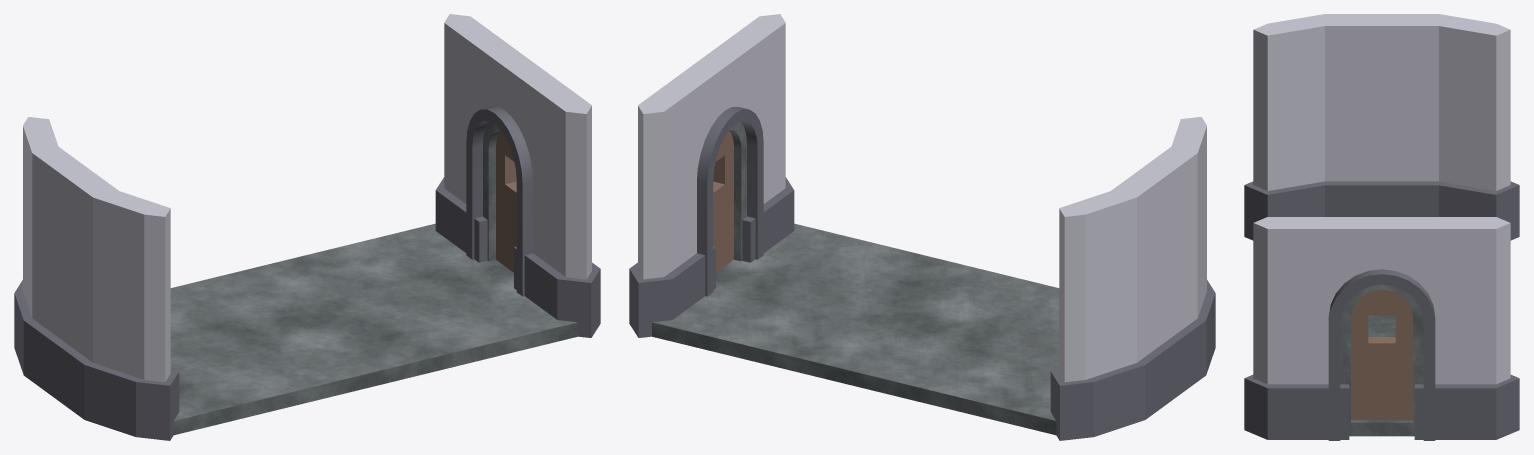
The model's file is hallway_short_06.fbx.
3 views of the same model, side by side, from view 1: azimuth 30°, elevation 25°; view 2: azimuth 150°, elevation 25°; view 3: azimuth 270°, elevation 25° (orthographic). The views are drawn at different scales.
Visible parts, largest first — view 1: floor_05_105, wall_03_101, door_01_106; view 2: floor_05_105, wall_03_101, door_01_106; view 3: door_01_106, wall_03_101, floor_05_105.
Part boxes in pixels (left/top/right/bottom): floor_05_105: left=170, top=223, right=577, bottom=435; wall_03_101: left=14, top=117, right=179, bottom=440; door_01_106: left=435, top=14, right=600, bottom=337; floor_05_105: left=652, top=223, right=1059, bottom=435; wall_03_101: left=1050, top=117, right=1215, bottom=440; door_01_106: left=629, top=14, right=794, bottom=337; door_01_106: left=1244, top=217, right=1519, bottom=440; wall_03_101: left=1244, top=14, right=1519, bottom=240; floor_05_105: left=1349, top=315, right=1414, bottom=436.
Size of the model in its own units: 23.15 by 10 by 12.05.
